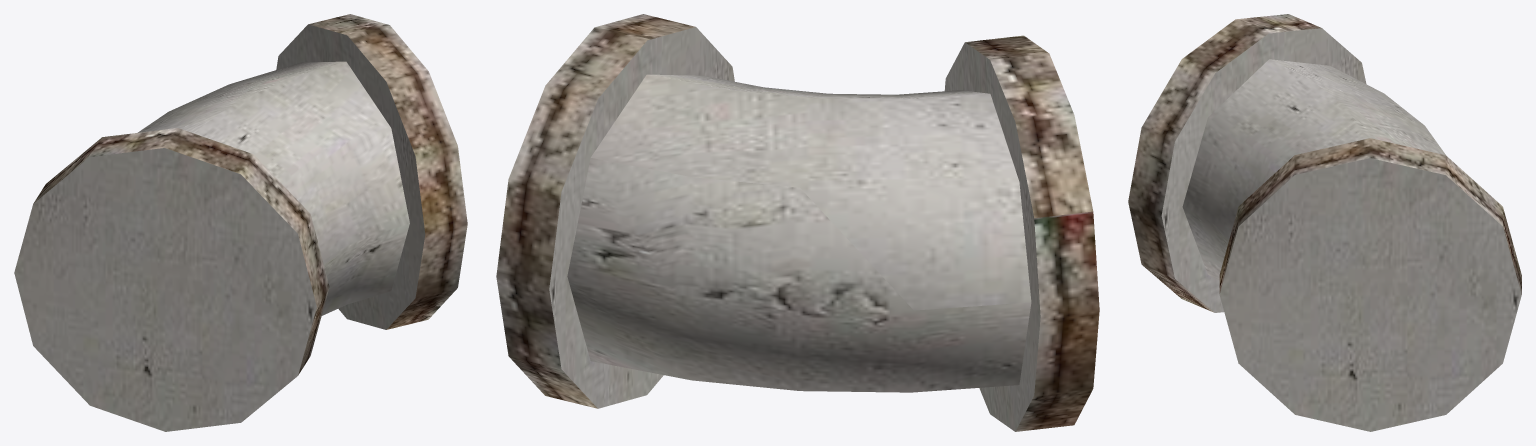
The model's file is pipe03_45degree01.glb.
The picture shows the model from 3 angles, left to right: view 1: azimuth 30°, elevation 25°; view 2: azimuth 150°, elevation 25°; view 3: azimuth 270°, elevation 25°; orthographic projection. The views are drawn at different scales.
Parts seen in each view (by area): view 1: 0_pipesystem01a_skin1; view 2: 0_pipesystem01a_skin1; view 3: 0_pipesystem01a_skin1.
Part boxes in pixels (x1=…): 0_pipesystem01a_skin1: x1=14, y1=14, x2=467, y2=431; 0_pipesystem01a_skin1: x1=496, y1=14, x2=1099, y2=431; 0_pipesystem01a_skin1: x1=1128, y1=14, x2=1521, y2=431.
Bounding box in the file's own units: 0.8607 × 0.5987 × 0.7797.
1 material, 1 textured.
